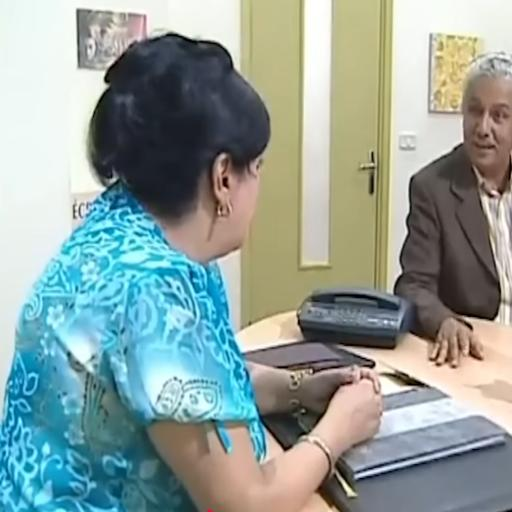jannet: (106, 33, 270, 261)
